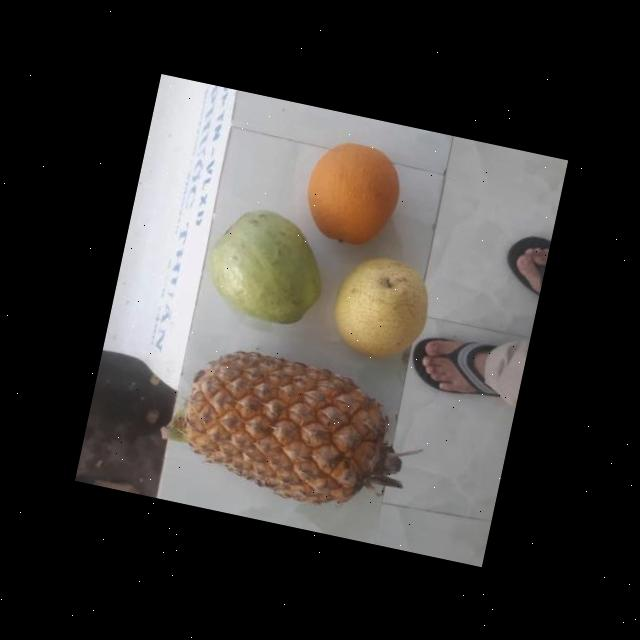guava: (201, 203, 331, 336)
orange: (294, 134, 404, 256)
pear: (324, 249, 437, 371)
pineapple: (170, 344, 396, 516)
